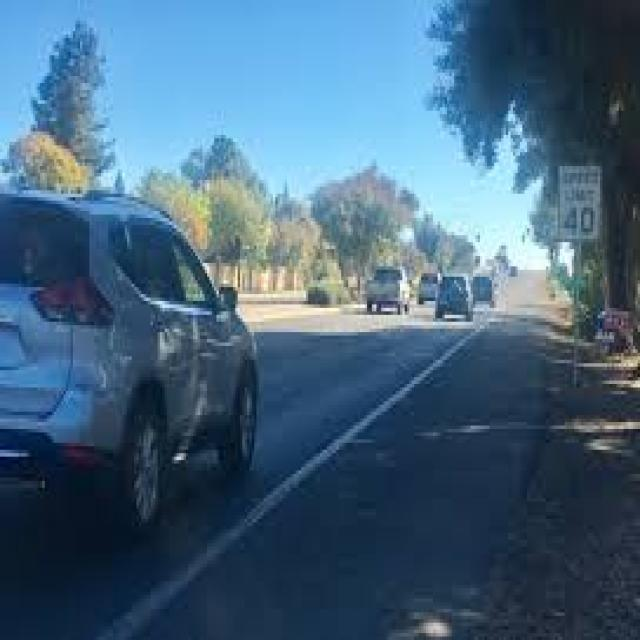speedLimit40: (558, 166, 602, 242)
